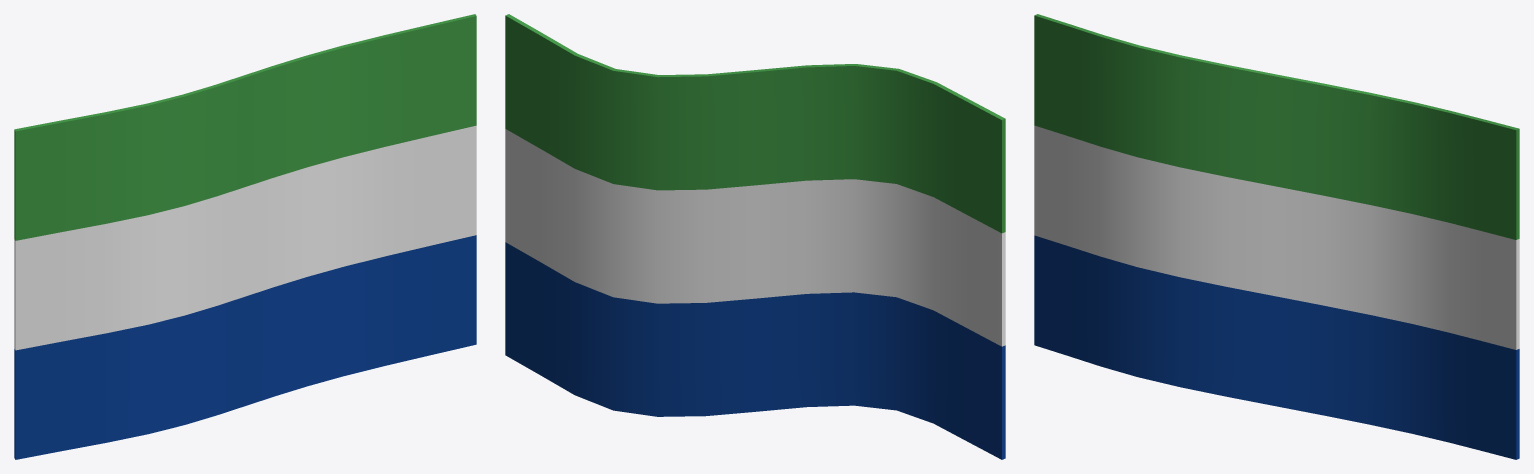
File: flag_sierra_leone.glb
3 views of the same model, side by side, from view 1: azimuth 30°, elevation 25°; view 2: azimuth 150°, elevation 25°; view 3: azimuth 330°, elevation 25° (orthographic). The views are drawn at different scales.
Visible parts, largest first — view 1: flag_sierra_leone; view 2: flag_sierra_leone; view 3: flag_sierra_leone.
Part boxes in pixels (<box>): flag_sierra_leone: <box>14,14,476,459</box>; flag_sierra_leone: <box>505,14,1005,459</box>; flag_sierra_leone: <box>1034,14,1519,459</box>.
Bounding box in the file's own units: 2.18 × 1.58 × 0.3373.
Materials: 1 (1 with a texture image).
